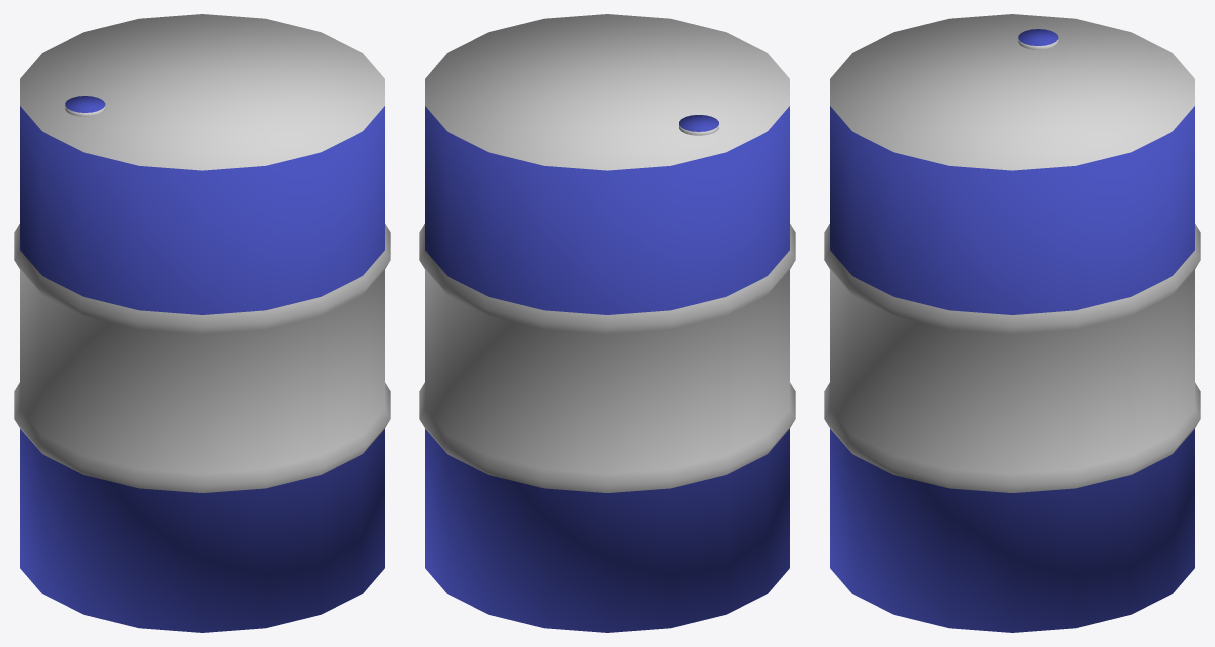
Rendered from Barrel1.fbx.
3 renders of one model, left to right at view 1: azimuth 30°, elevation 25°; view 2: azimuth 150°, elevation 25°; view 3: azimuth 270°, elevation 25°, orthographic.
Parts seen in each view (by area): view 1: Barrel; view 2: Barrel; view 3: Barrel.
Part boxes in pixels (bbox=[...]): Barrel: bbox=[14, 14, 390, 632]; Barrel: bbox=[419, 14, 795, 632]; Barrel: bbox=[824, 14, 1200, 632].
Size of the model in its own units: 379 by 511 by 374.
